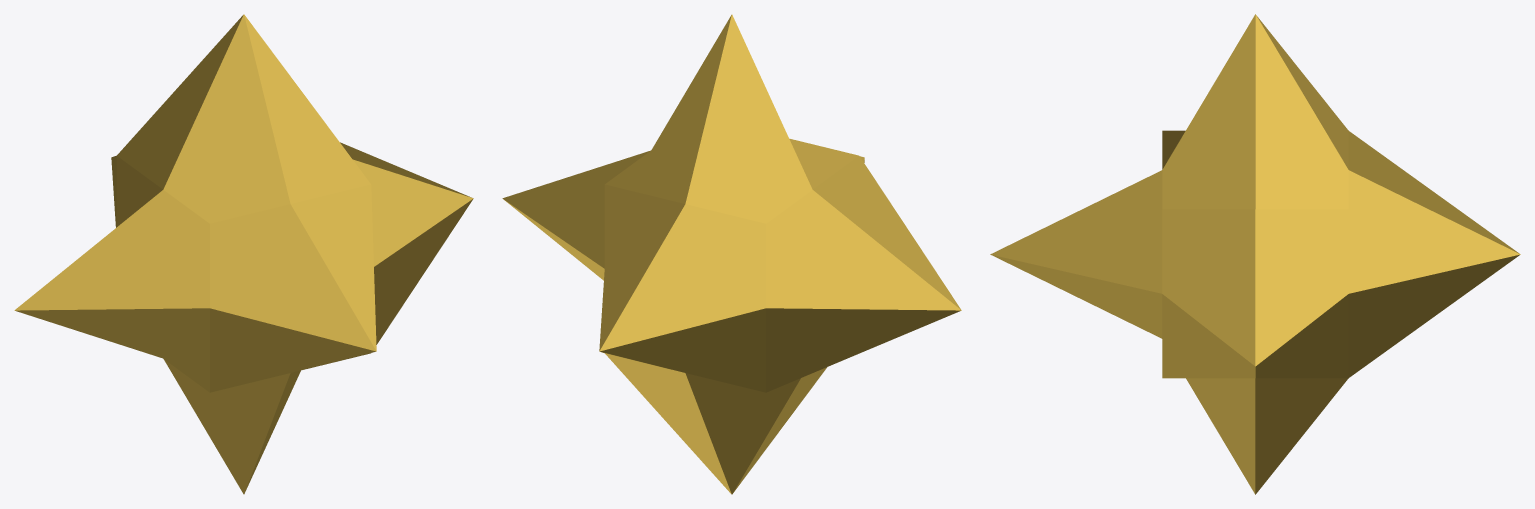
3 views of the same model, side by side, from view 1: azimuth 30°, elevation 25°; view 2: azimuth 150°, elevation 25°; view 3: azimuth 270°, elevation 25° (orthographic).
Parts seen in each view (by area): view 1: Cube.002; view 2: Cube.002; view 3: Cube.002.
Part boxes in pixels (<box>): Cube.002: <box>14,14,473,494</box>; Cube.002: <box>502,14,961,494</box>; Cube.002: <box>990,14,1520,494</box>.
Bounding box in the file's own units: 14.88 × 14.88 × 14.88.
